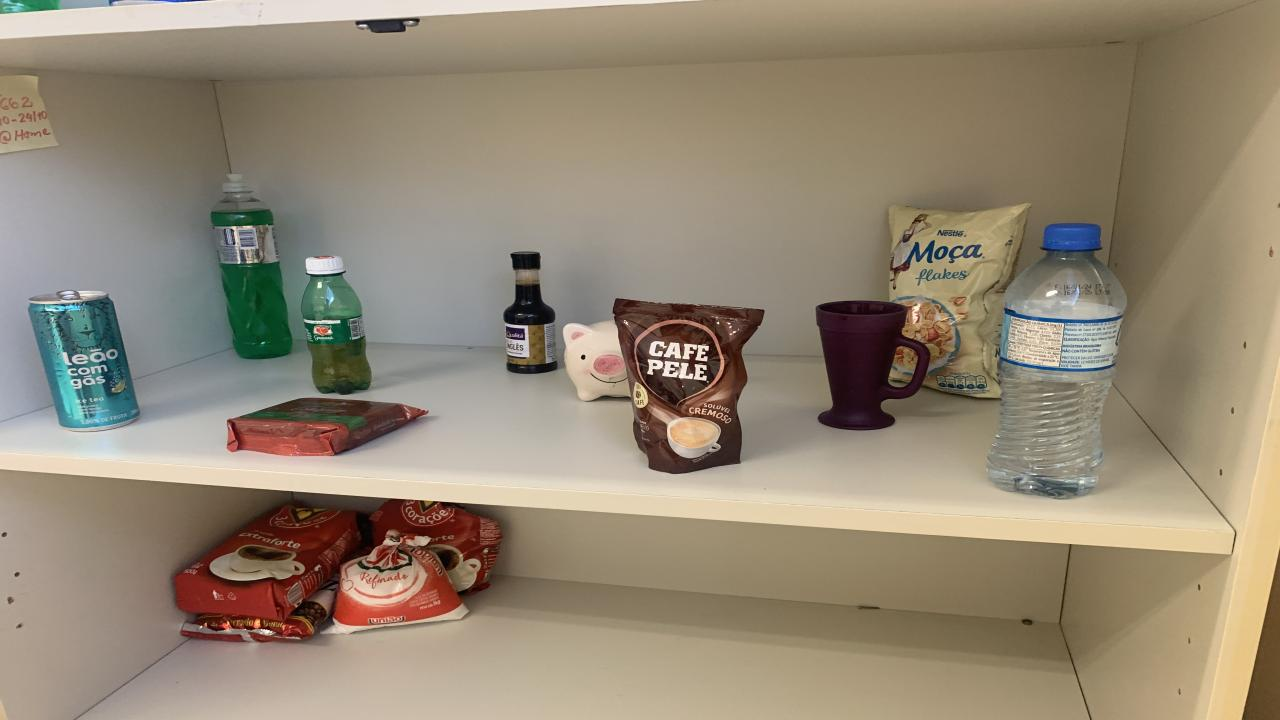Coffee-Pantry_Items: (612, 298, 765, 472)
Detergent-Cleanup_Items: (210, 174, 292, 358)
English_Sauce-Pantry_Items: (502, 251, 558, 373)
Flakes-Snacks: (888, 204, 1030, 398)
Guarana-Drinks: (300, 255, 370, 394)
Guava-Snacks: (228, 398, 428, 456)
Pig_Safe-Miscellaneous: (562, 321, 630, 401)
Tea-Drinks: (30, 291, 140, 431)
Water_Bottle-Drinks: (988, 225, 1128, 499)
